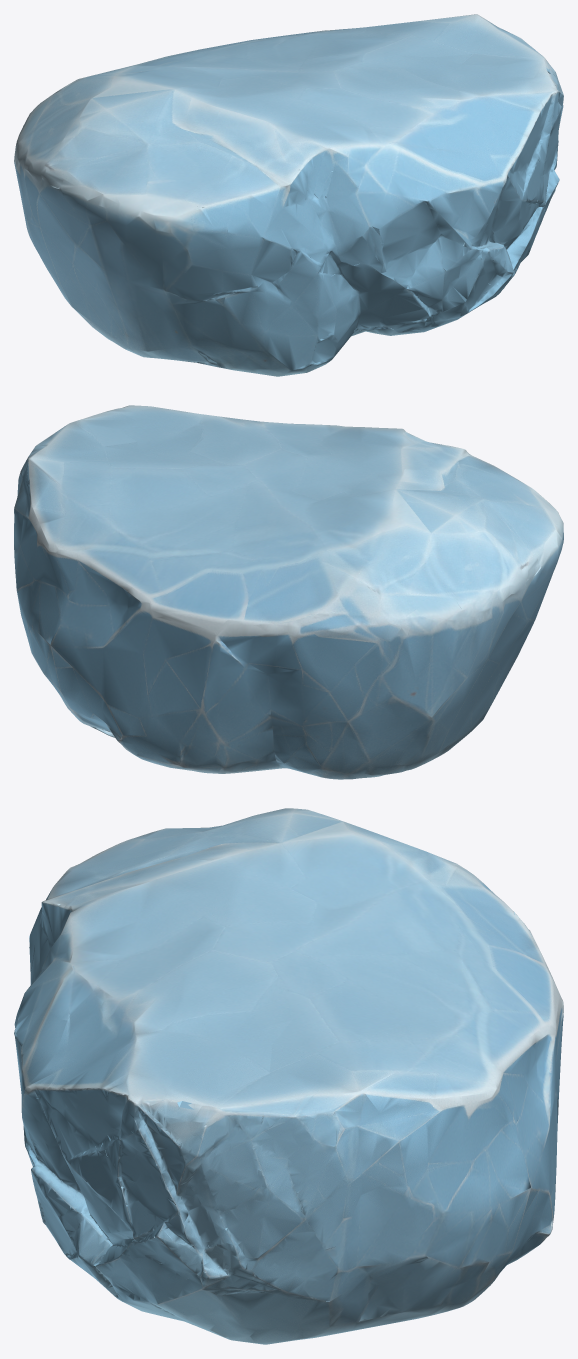
Rendered from ice.glb.
3 renders of one model, top to bottom at view 1: azimuth 30°, elevation 25°; view 2: azimuth 150°, elevation 25°; view 3: azimuth 270°, elevation 25°, orthographic. The views are drawn at different scales.
Parts seen in each view (by area): view 1: mesh_node; view 2: mesh_node; view 3: mesh_node.
Part boxes in pixels (x1,y1,x2,y2): mesh_node: (14, 14, 563, 376); mesh_node: (14, 405, 563, 779); mesh_node: (14, 808, 563, 1344).
Bounding box in the file's own units: 4.16 × 2 × 3.1.
Materials: 1 (1 with a texture image).
